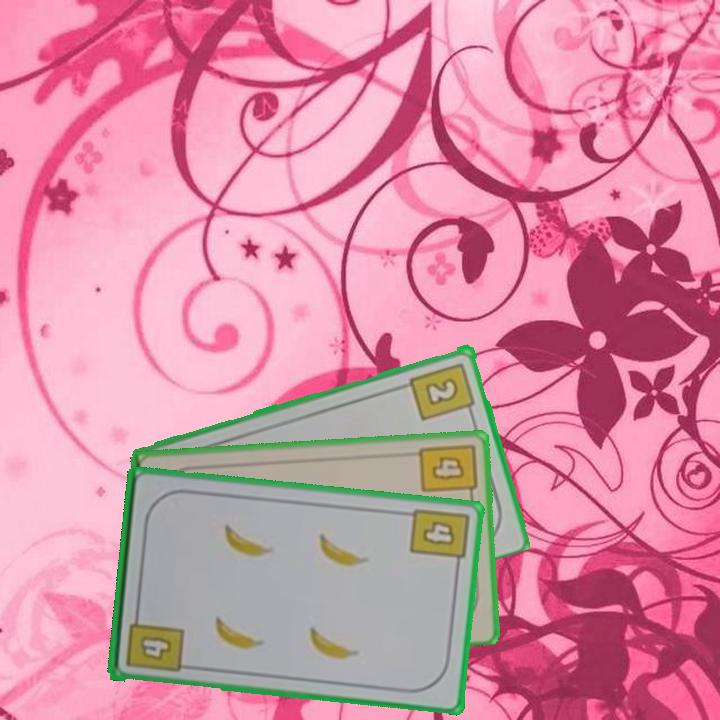2b: (407, 358, 478, 423)
4b: (406, 504, 471, 573), (122, 607, 186, 675), (416, 439, 479, 504)
